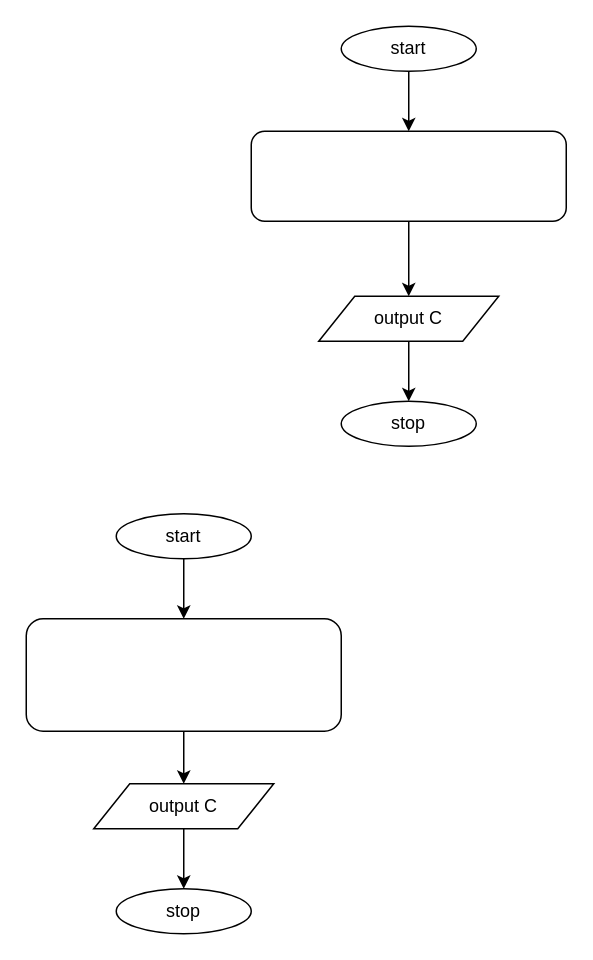
The diagram is 593 pixels wide and 960 high, and some of its shapes have lost their labels. Each missing label, with the centre of its shape:
A=a+jb B=c+jd C=A+B=(a+c)+j(b+d): (x=408, y=175)
A=a+jb B=c+jd C=A+B=(a+jb).(c+jd) C=ac+jbc+jad-bd C= (ac-bd)+j(bc+jad): (x=183, y=674)
